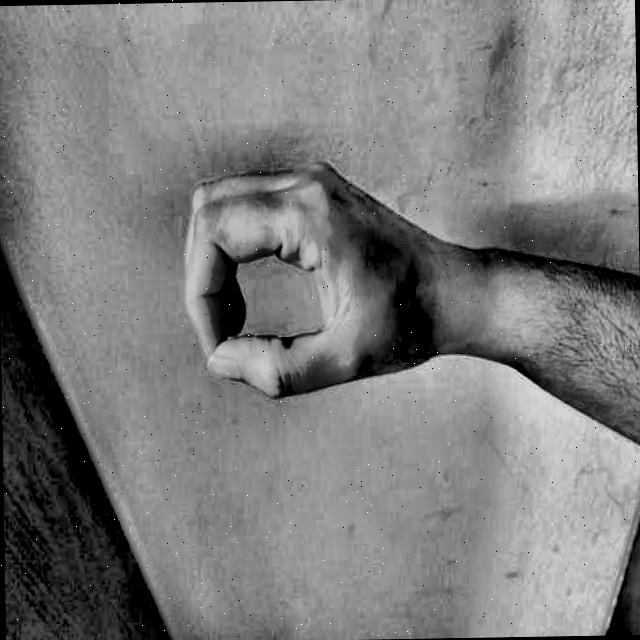O: (158, 120, 446, 430)
